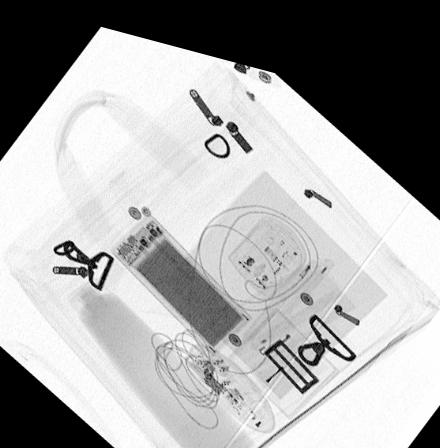Powerbank: (110, 206, 252, 344)
